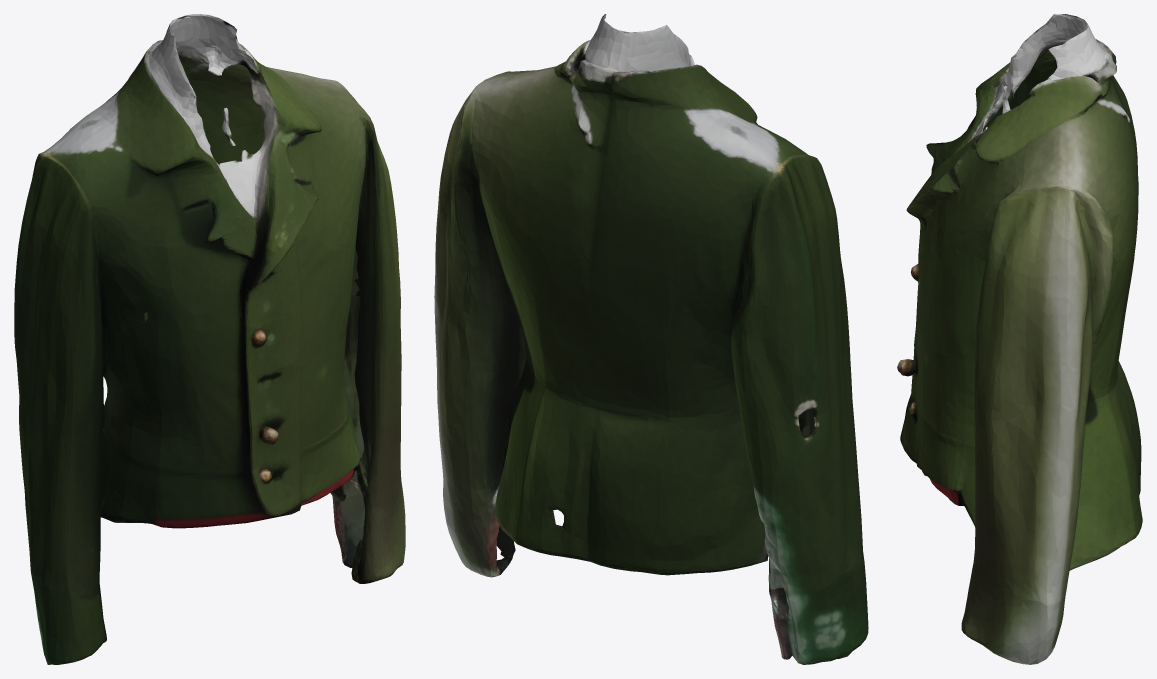
The picture shows the model from 3 angles, left to right: view 1: azimuth 30°, elevation 25°; view 2: azimuth 150°, elevation 25°; view 3: azimuth 270°, elevation 25°; orthographic projection. The views are drawn at different scales.
Parts seen in each view (by area): view 1: world; view 2: world; view 3: world.
Part boxes in pixels (<box>): world: <box>14,14,405,664</box>; world: <box>434,14,868,664</box>; world: <box>897,14,1142,664</box>.
Size of the model in its own units: 0.6697 by 0.9932 by 0.3893.
Materials: 1 (1 with a texture image).
